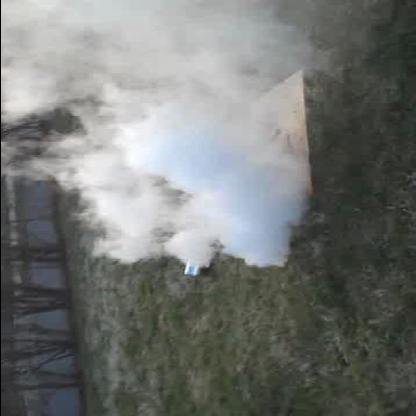Smoke: (1, 4, 301, 262)
